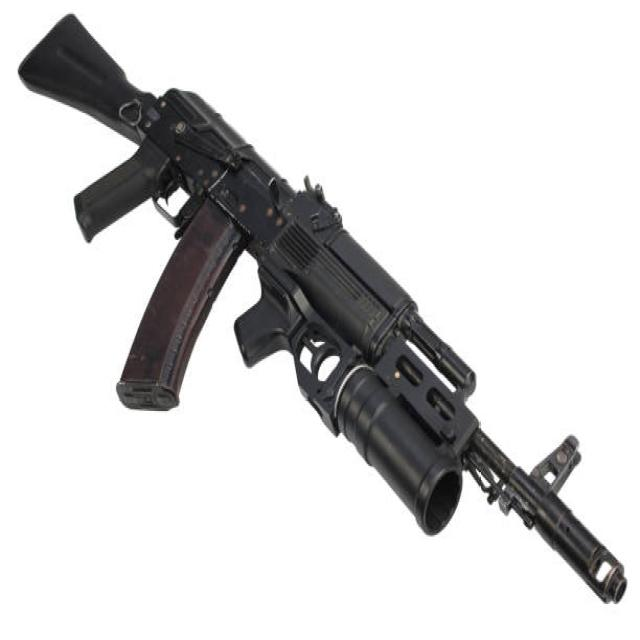rifle: (9, 6, 632, 614)
